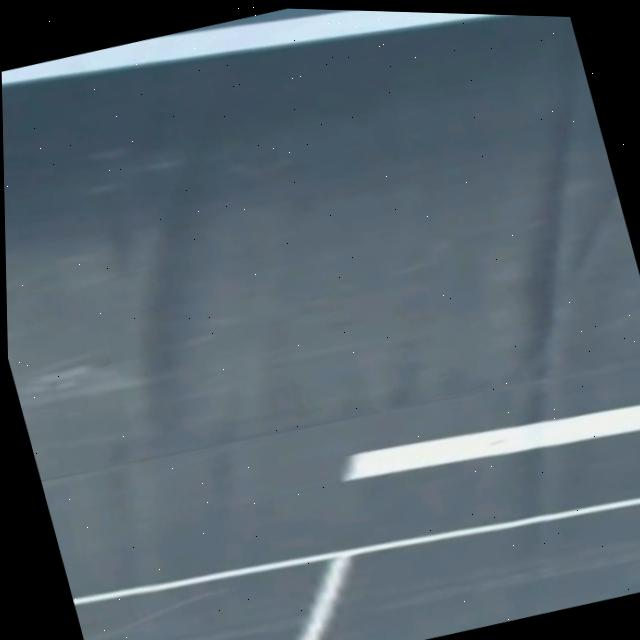center: (344, 402, 640, 478)
left: (2, 10, 490, 82)
